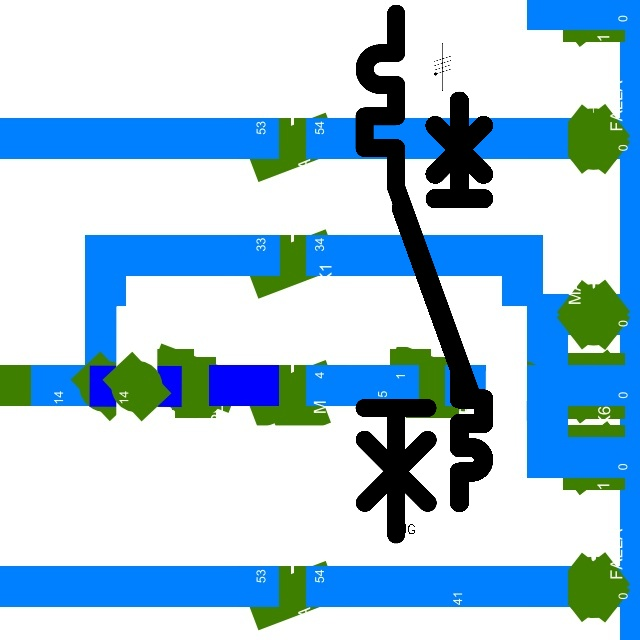interruptor_termomagnetico: (351, 0, 485, 547), (391, 90, 494, 512)
